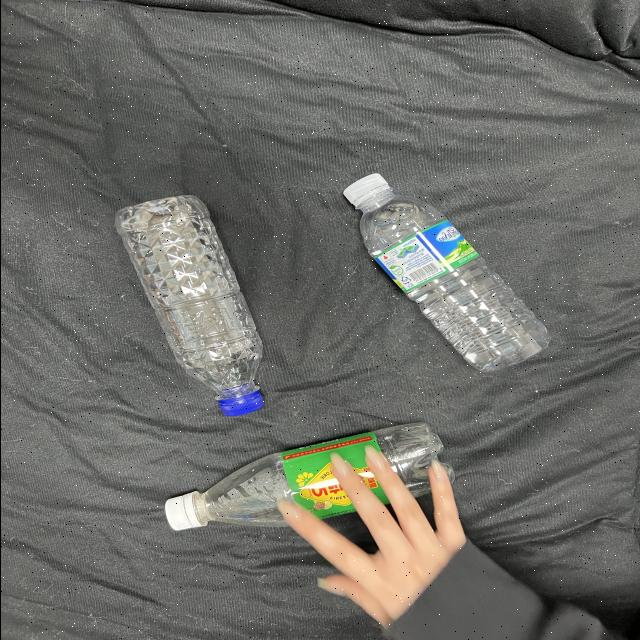plastic: (317, 156, 562, 380), (137, 407, 463, 553), (97, 182, 288, 422)
